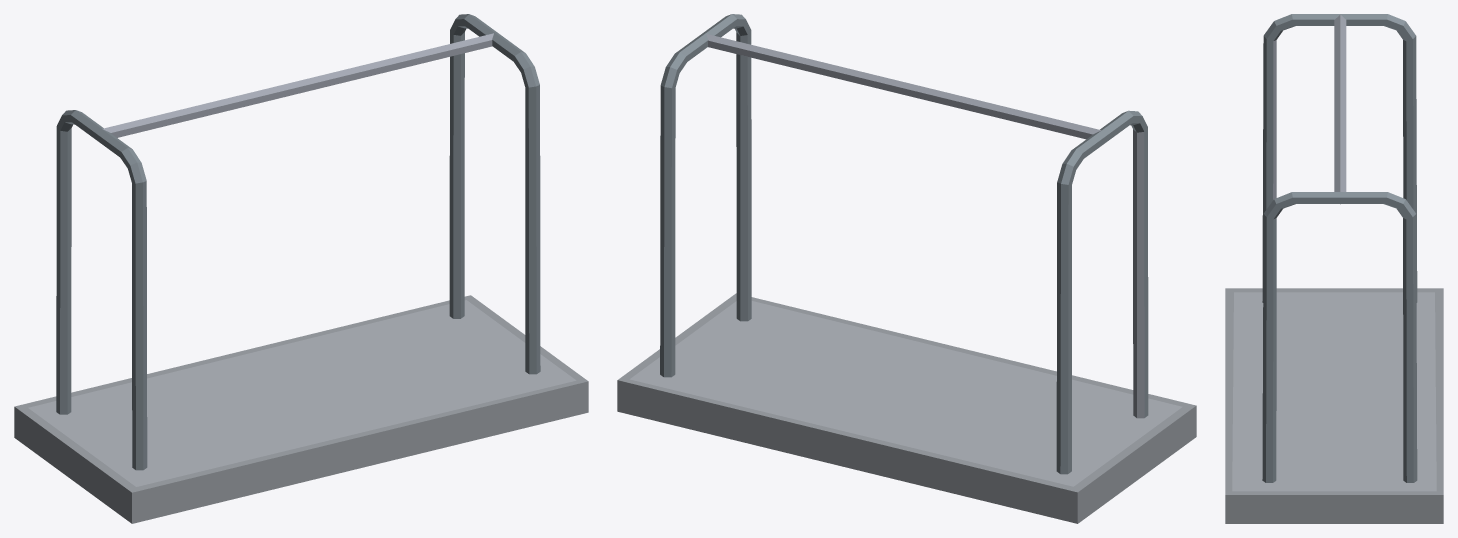
File: SM_Prop_Clothes_Rack_06.fbx
3 renders of one model, left to right at view 1: azimuth 30°, elevation 25°; view 2: azimuth 150°, elevation 25°; view 3: azimuth 270°, elevation 25°, orthographic. The views are drawn at different scales.
Parts seen in each view (by area): view 1: SM_Prop_Clothes_Rack_06; view 2: SM_Prop_Clothes_Rack_06; view 3: SM_Prop_Clothes_Rack_06.
Part boxes in pixels (bbox=[...]): SM_Prop_Clothes_Rack_06: bbox=[14, 14, 588, 523]; SM_Prop_Clothes_Rack_06: bbox=[617, 14, 1196, 523]; SM_Prop_Clothes_Rack_06: bbox=[1225, 14, 1443, 523].
Size of the model in its own units: 210 by 150 by 93.69.
